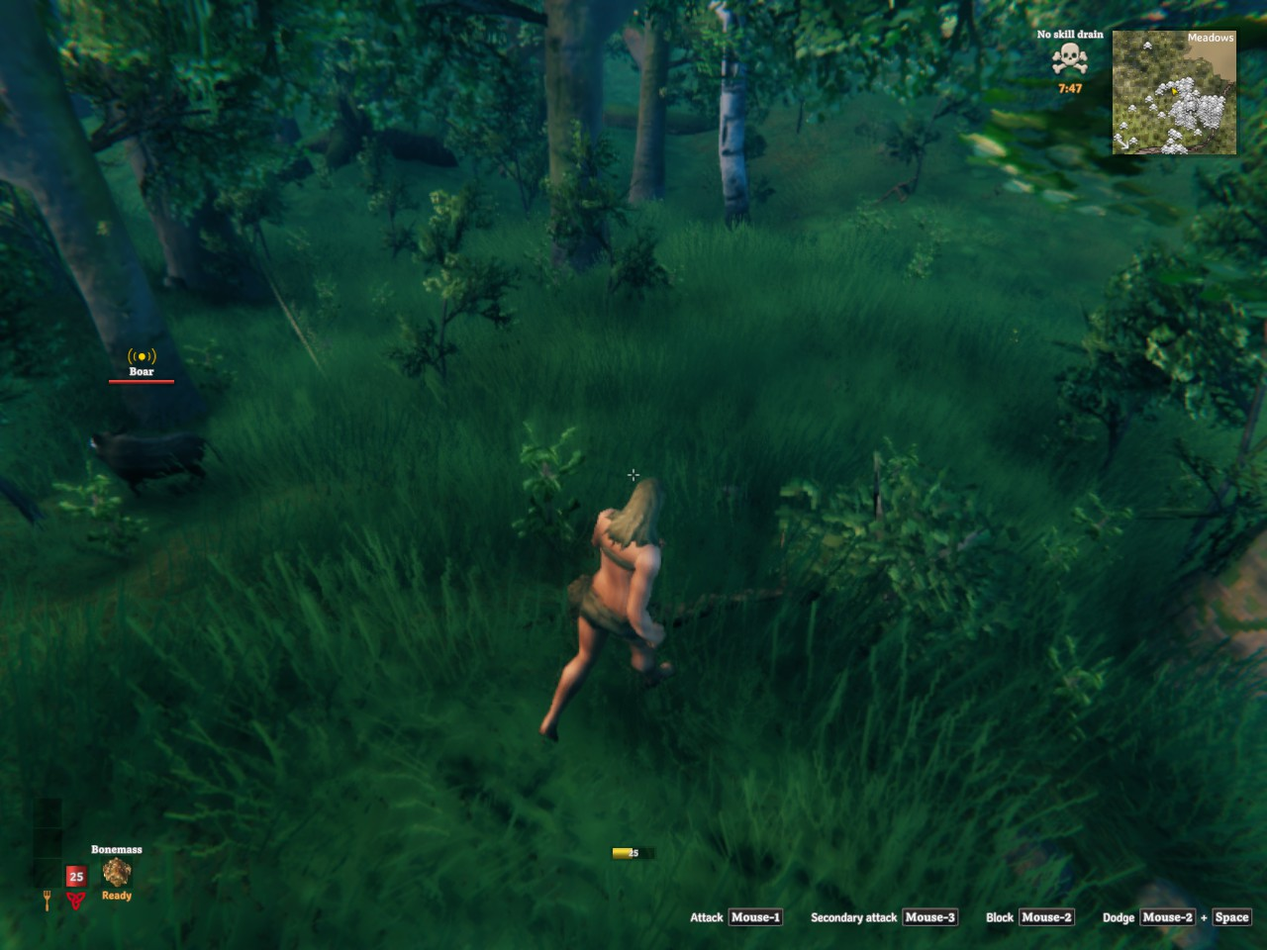Boar: (89, 432, 206, 494)
